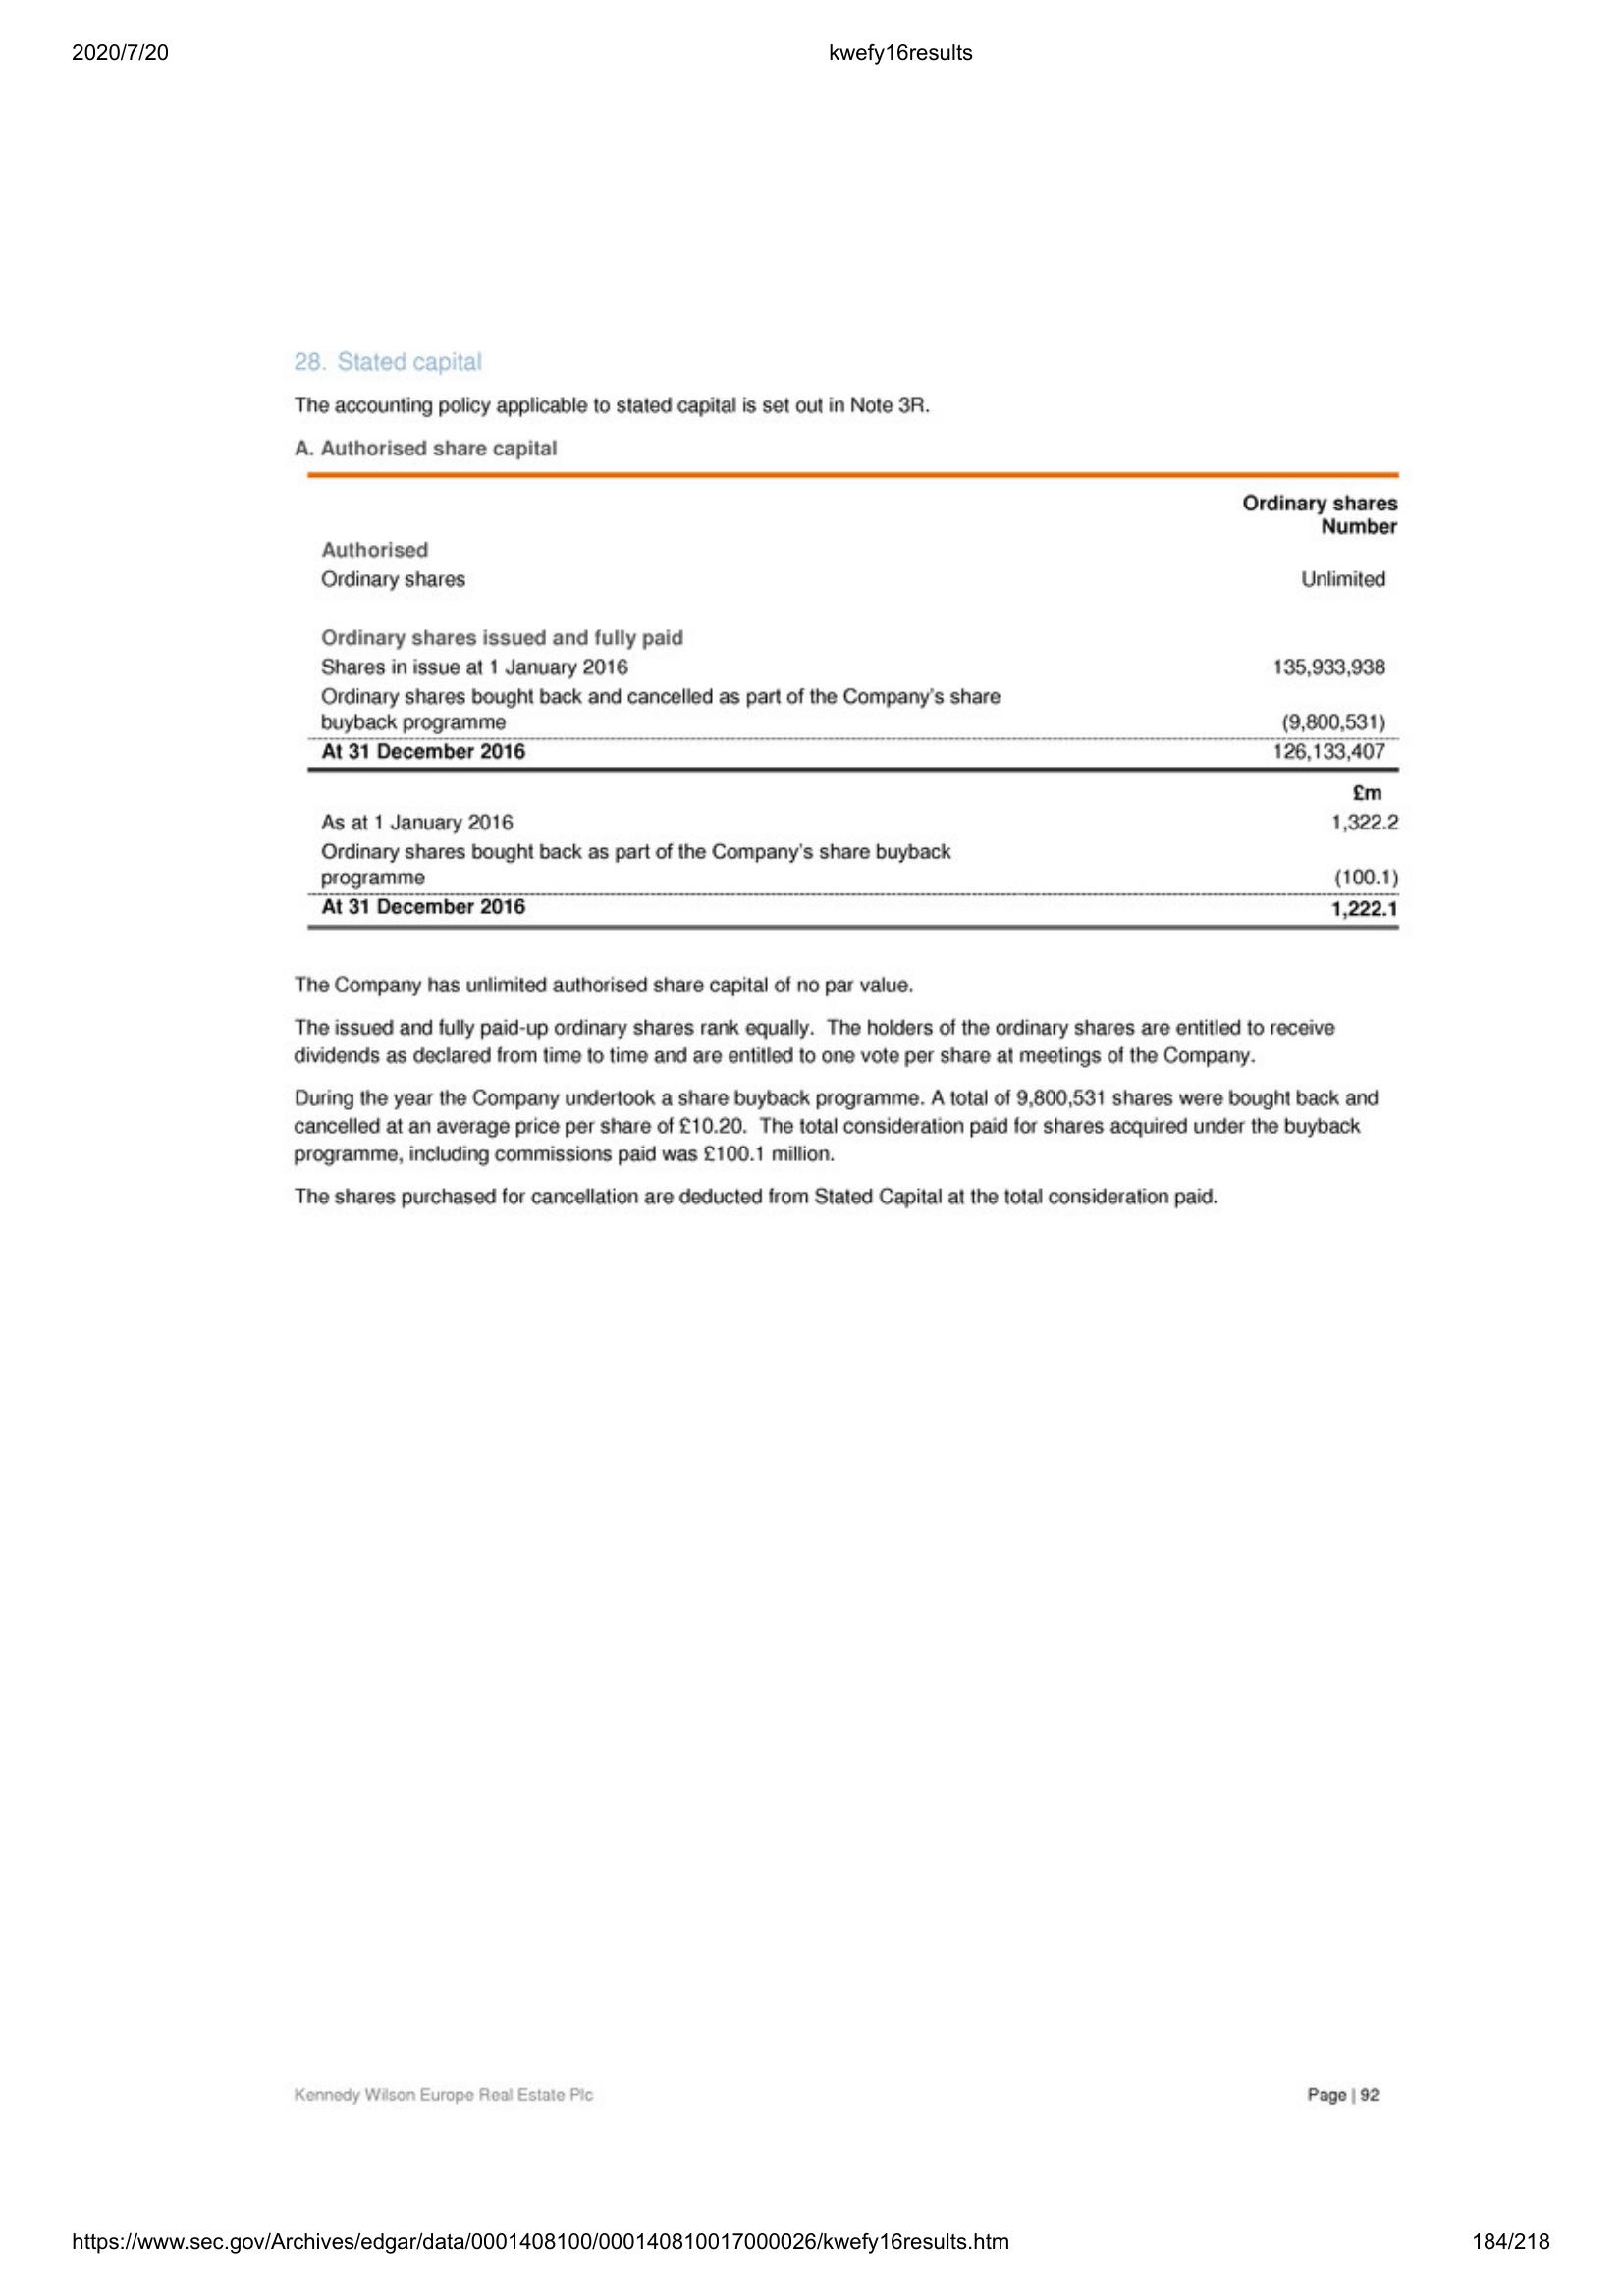table: (302, 469, 1410, 778), (307, 806, 1410, 943)
